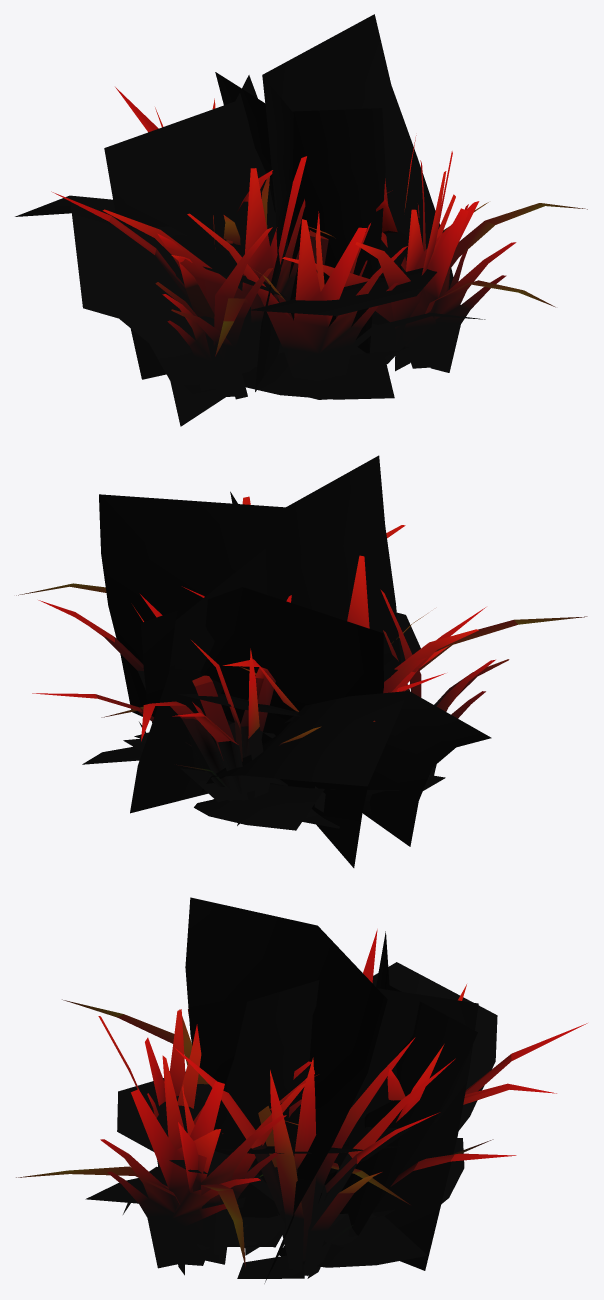
The model's file is TestSceneBattle001_Plant_Grass.fbx.
3 renders of one model, top to bottom at view 1: azimuth 30°, elevation 25°; view 2: azimuth 150°, elevation 25°; view 3: azimuth 270°, elevation 25°, orthographic. The views are drawn at different scales.
Visible parts, largest first — view 1: extracted_31; view 2: extracted_31; view 3: extracted_31.
Boxes of the visible parts, <box> form: extracted_31: <box>15,14,587,426</box>; extracted_31: <box>16,455,587,867</box>; extracted_31: <box>16,897,587,1283</box>.
Size of the model in its own units: 453 by 293 by 444.
